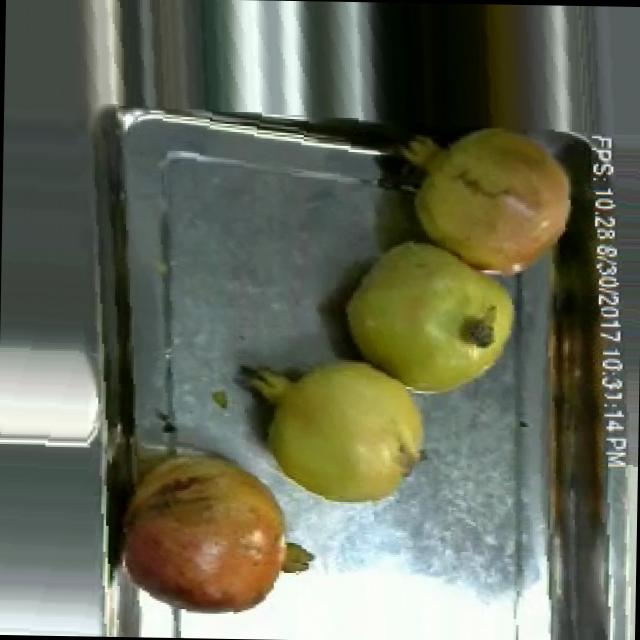fruit: (107, 436, 316, 628), (330, 220, 528, 408), (250, 345, 443, 520), (392, 114, 582, 290)
